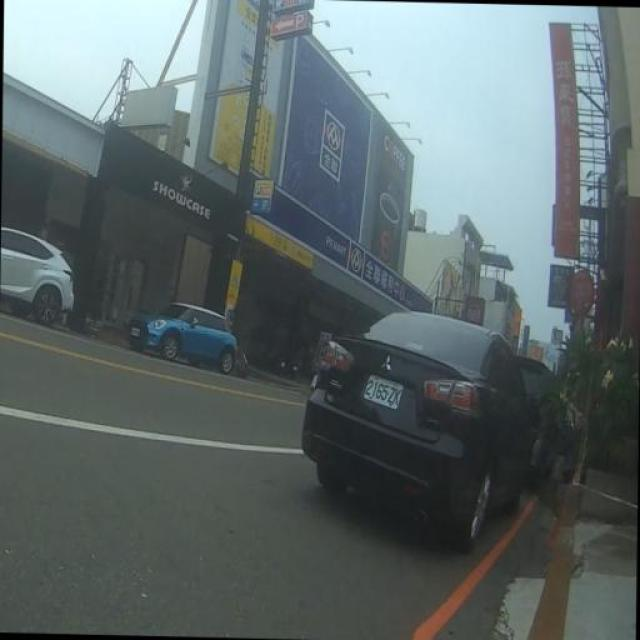Legalparking: (259, 228, 563, 562)
